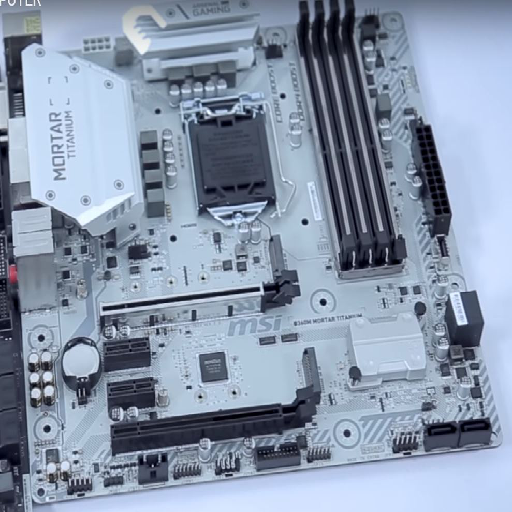CPU: (176, 90, 290, 229)
GPU: (108, 388, 317, 454), (98, 270, 303, 328)
MOTHERBOARD: (9, 2, 503, 502)
RAM: (290, 1, 409, 274)
SSD: (302, 346, 323, 391), (268, 235, 287, 281)
